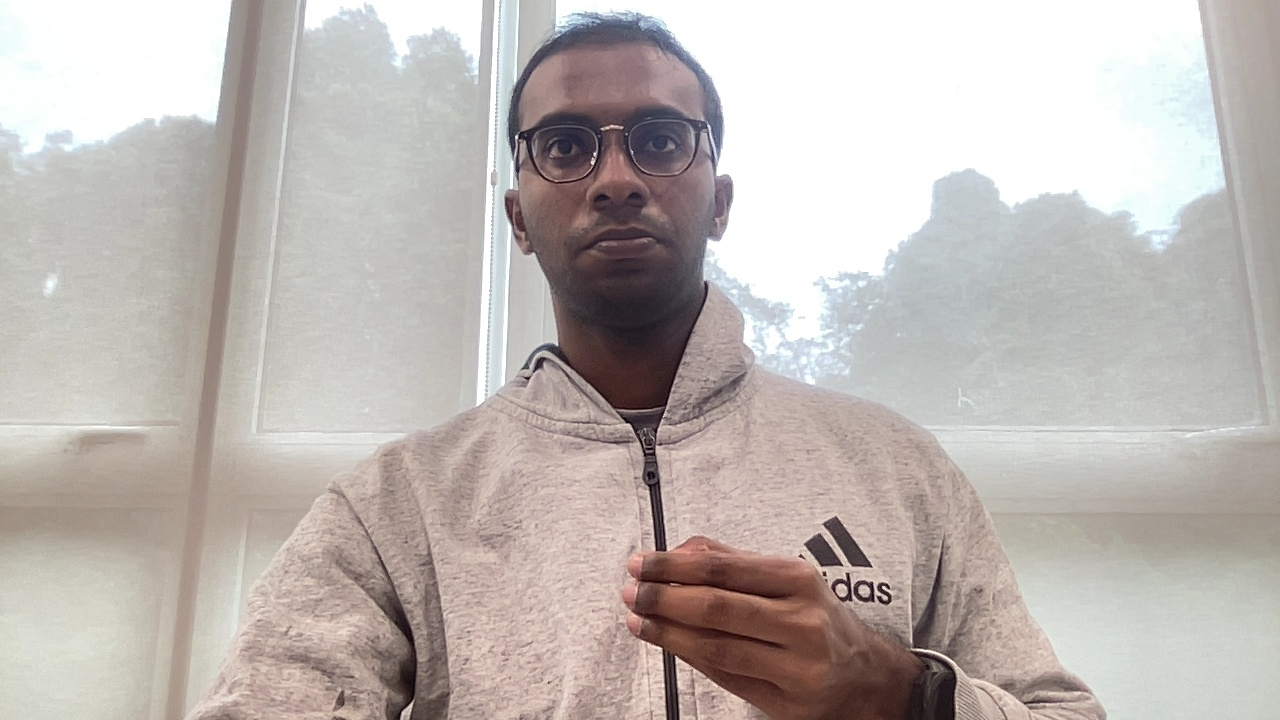drink: (618, 535, 878, 716)
